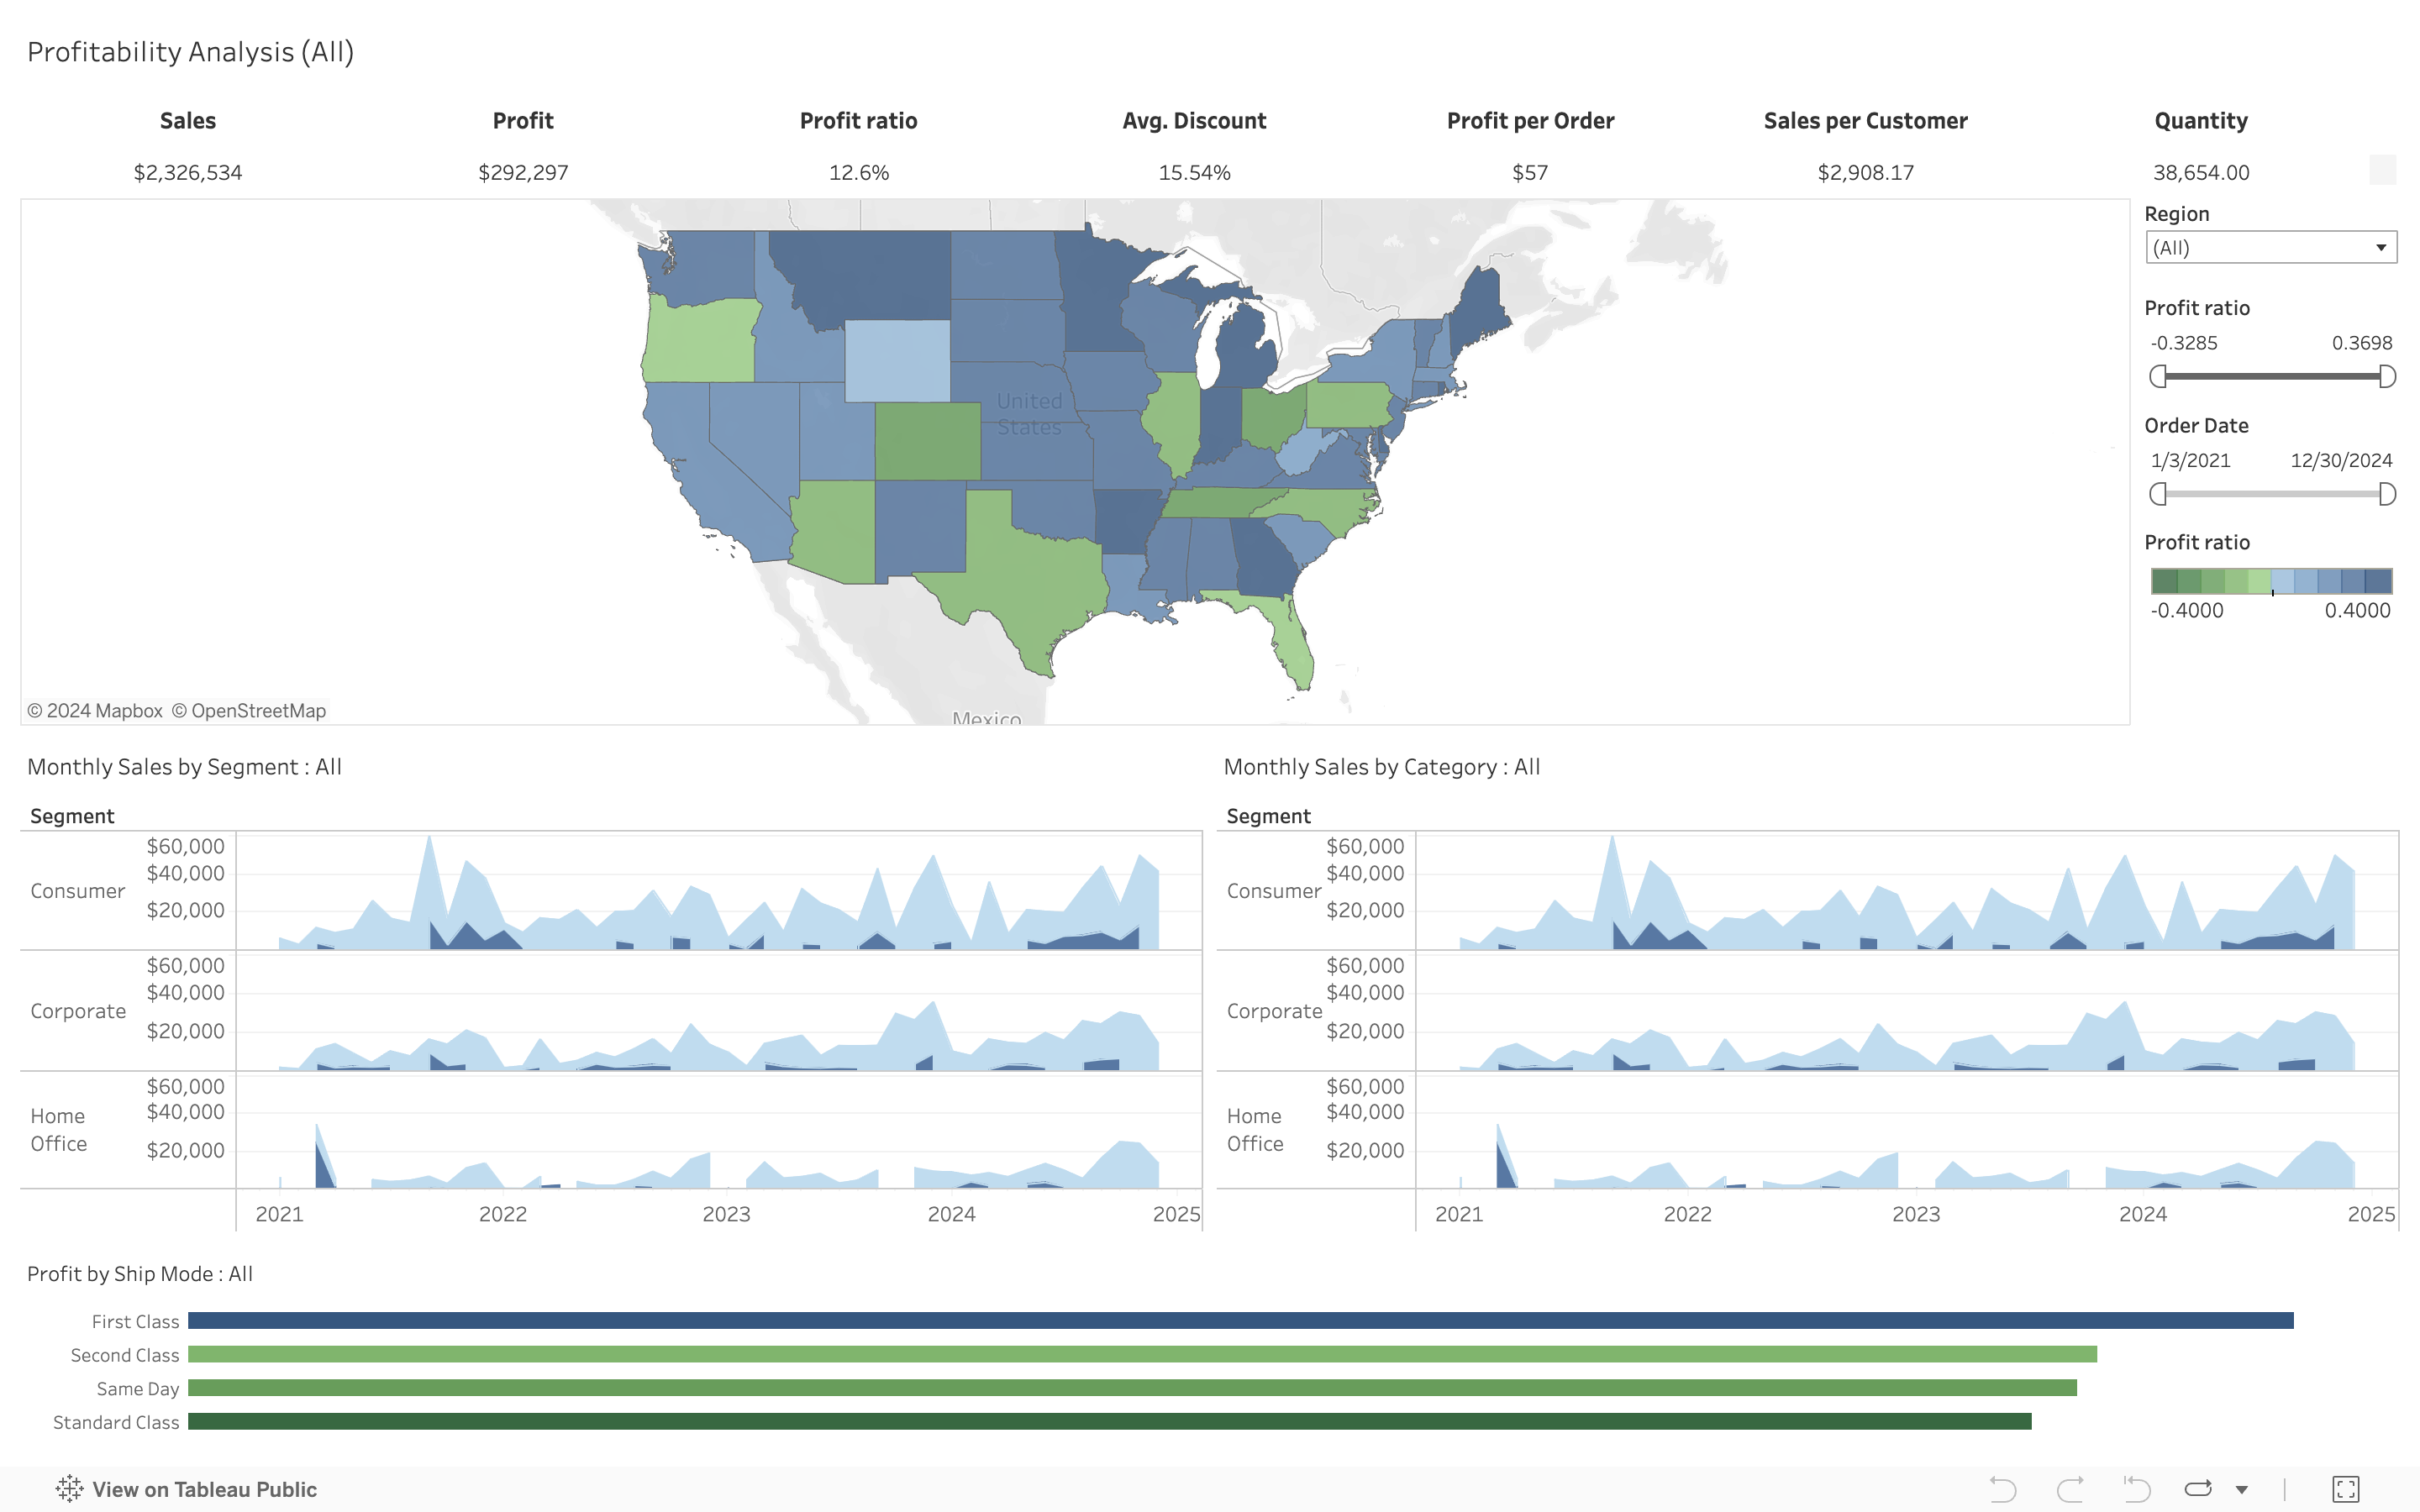

The page's visual inventory and layout, read from the dashboard file:
{"tool":"tableau","page":{"name":"Performance Overview KPI","canvas":[1000,1000],"units":"permille","ordinal":0},"visuals":[{"type":"worksheet","title":"Key Performance Indicators","mark":"Automatic","box":[6.8,10.6,986.4,140.4]},{"type":"worksheet","title":"Profit Ratio by Geography","mark":"Automatic","box":[6.8,151,850.9,349]},{"type":"filter","title":"Profit Ratio by Geography","param":"[federated.1efftq00o1twx51h8ho040kq6yds].[none:Region:nk]","box":[857.6,151,135.6,68.9]},{"type":"filter","title":"Profit Ratio by Geography","param":"[federated.1efftq00o1twx51h8ho040kq6yds].[usr:Calculation_2876040984436731904:qk","box":[857.6,219.9,135.6,91.4]},{"type":"filter","title":"Sales by Segment","param":"[federated.1efftq00o1twx51h8ho040kq6yds].[none:Order Date:qk]","box":[857.6,311.3,135.6,91.4]},{"type":"legend","title":"Profit Ratio by Geography","param":"[federated.1efftq00o1twx51h8ho040kq6yds].[usr:Calculation_2876040984436731904:qk","box":[857.6,402.7,135.6,86.1]},{"type":"worksheet","title":"Sales by Segment","mark":"Area","rows":["Segment","Sales"],"cols":["Order Date"],"box":[6.8,500,493.2,346.1]},{"type":"worksheet","title":"Sales by Category","mark":"Area","rows":["Category","Sales"],"cols":["Order Date"],"box":[500,500,493.2,346.1]},{"type":"worksheet","title":"Profit by Ship Mode","mark":"Bar","rows":["Ship Mode"],"cols":["Calculation_2876040984436731904"],"box":[6.8,846,986.4,143.4]}]}

Visuals, with their boxes on the dashboard's canvas, which has no fixed pixel size, in thousandths of its width and height (x1, y1, x2, y2). These are canvas units, not pixel positions in the 2420x1512 screenshot, which may show the page scaled, cropped or inside an application window:
"Key Performance Indicators" worksheet: bbox=[7, 11, 993, 151]
"Profit Ratio by Geography" worksheet: bbox=[7, 151, 858, 500]
"Profit Ratio by Geography" filter: bbox=[858, 151, 993, 220]
"Profit Ratio by Geography" filter: bbox=[858, 220, 993, 311]
"Sales by Segment" filter: bbox=[858, 311, 993, 403]
"Profit Ratio by Geography" legend: bbox=[858, 403, 993, 489]
"Sales by Segment" worksheet (Area marks): bbox=[7, 500, 500, 846]
"Sales by Category" worksheet (Area marks): bbox=[500, 500, 993, 846]
"Profit by Ship Mode" worksheet (Bar marks): bbox=[7, 846, 993, 989]
